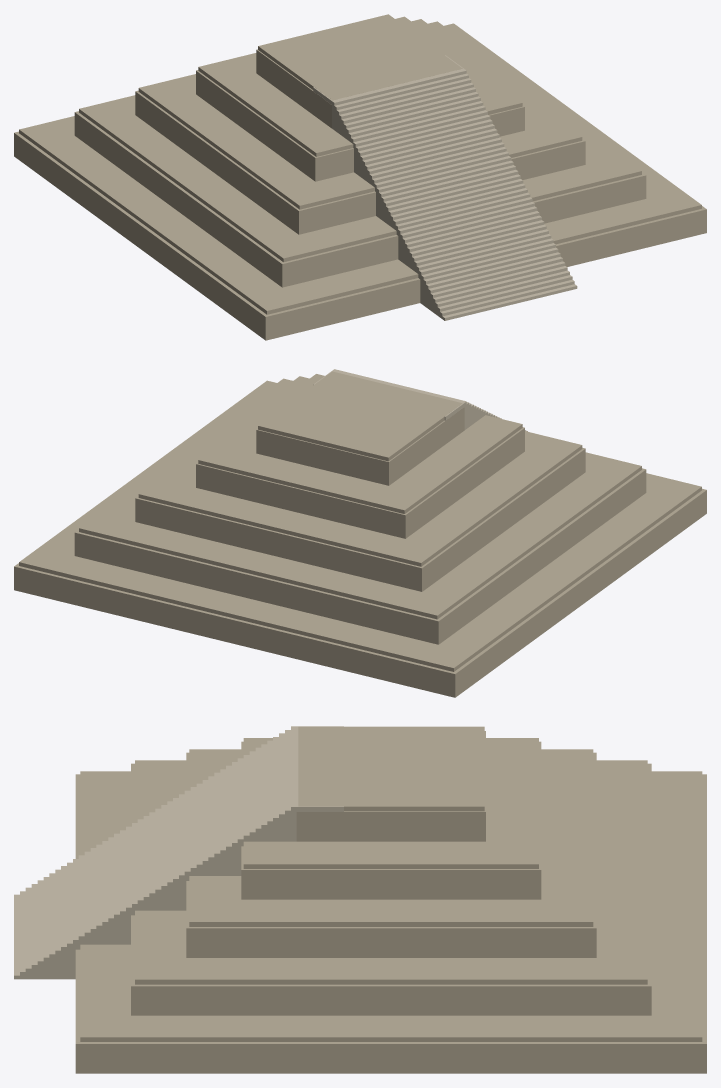
The model's file is meso-teo-moon-ruin.glb.
The picture shows the model from 3 angles, top to bottom: view 1: azimuth 30°, elevation 25°; view 2: azimuth 150°, elevation 25°; view 3: azimuth 270°, elevation 25°; orthographic projection. The views are drawn at different scales.
Visible parts, largest first — view 1: meso-body, meso-stair; view 2: meso-body, meso-stair; view 3: meso-body, meso-stair.
Boxes of the visible parts, x1,y1,x2,y2 form: meso-body: [14, 14, 706, 340]; meso-stair: [313, 55, 577, 320]; meso-body: [14, 371, 706, 697]; meso-stair: [313, 369, 527, 431]; meso-body: [75, 726, 706, 1073]; meso-stair: [14, 726, 343, 979].
Size of the model in its own units: 145 by 43.02 by 157.
